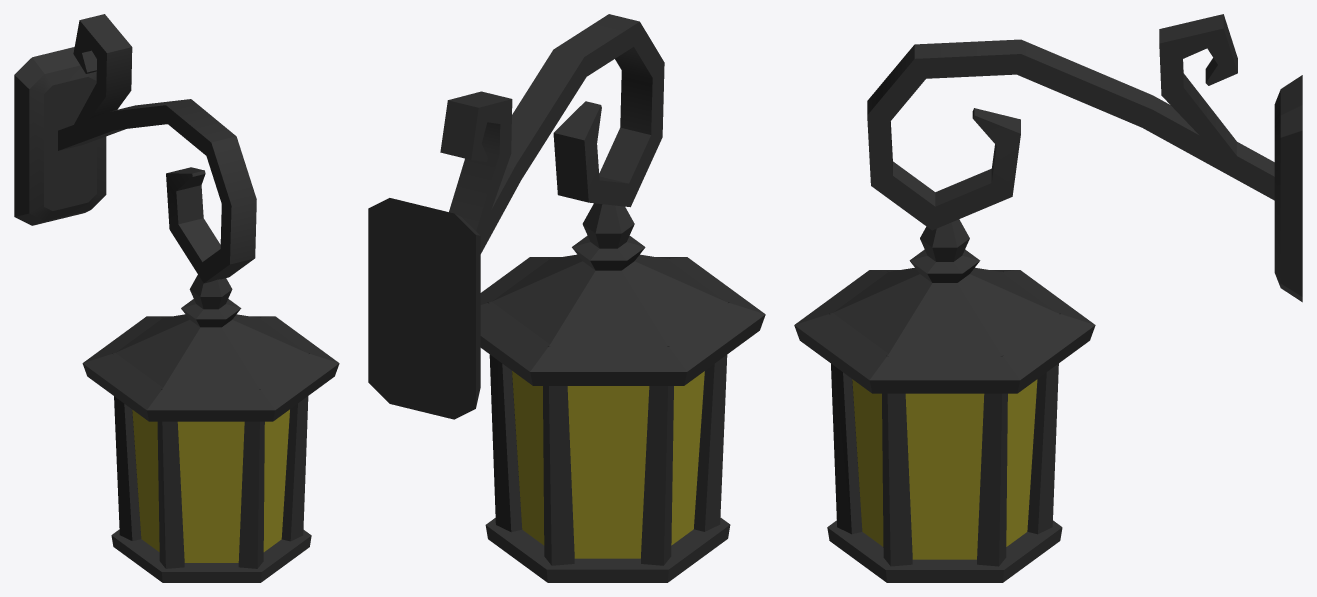
The model's file is SM_lamp_wall.fbx.
The picture shows the model from 3 angles, left to right: view 1: azimuth 30°, elevation 25°; view 2: azimuth 150°, elevation 25°; view 3: azimuth 270°, elevation 25°; orthographic projection. The views are drawn at different scales.
Parts seen in each view (by area): view 1: Box413789; view 2: Box413789; view 3: Box413789.
Boxes of the visible parts, x1=… form: Box413789: x1=14, y1=14, x2=339, y2=582; Box413789: x1=368, y1=14, x2=765, y2=582; Box413789: x1=794, y1=14, x2=1302, y2=582.
Bounding box in the file's own units: 21.92 × 48.11 × 42.7.
